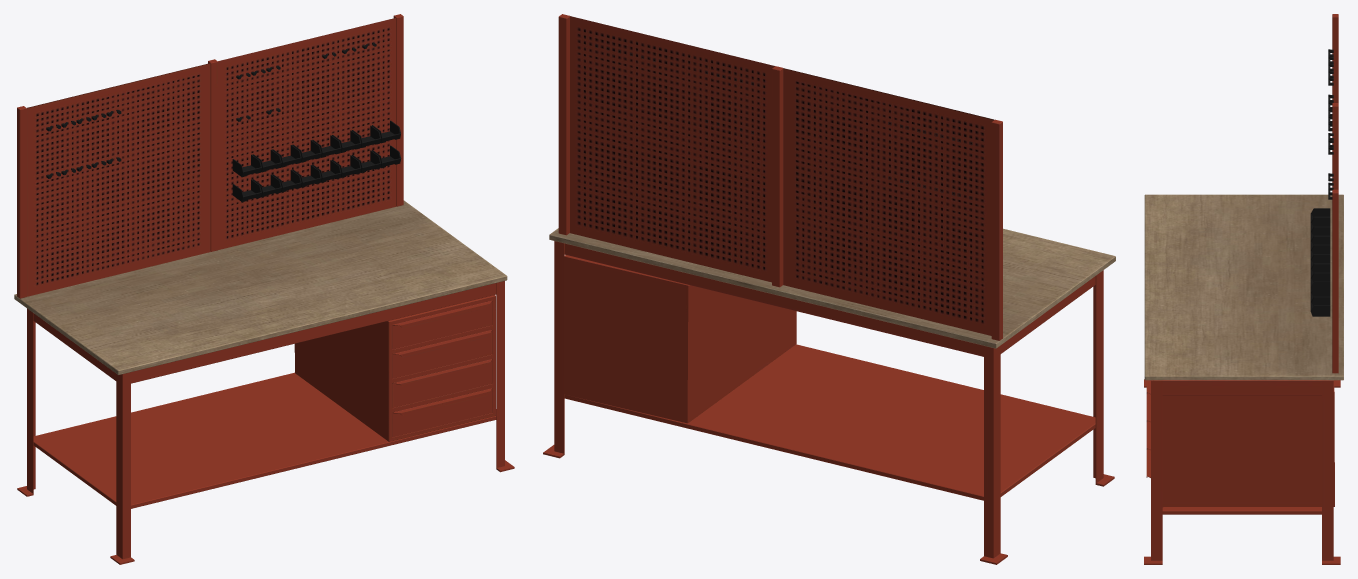
File: work_table_red_low_poly.glb
The picture shows the model from 3 angles, left to right: view 1: azimuth 30°, elevation 25°; view 2: azimuth 150°, elevation 25°; view 3: azimuth 270°, elevation 25°; orthographic projection. The views are drawn at different scales.
Parts seen in each view (by area): view 1: BancoDaLavoro_0; view 2: BancoDaLavoro_0; view 3: BancoDaLavoro_0.
Part boxes in pixels (x1,y1,x2,y2): BancoDaLavoro_0: (14, 14, 514, 564); BancoDaLavoro_0: (543, 14, 1115, 564); BancoDaLavoro_0: (1144, 14, 1343, 564).
Bounding box in the file's own units: 1.9 × 1.76 × 0.871.
Materials: 2 (1 with a texture image).
